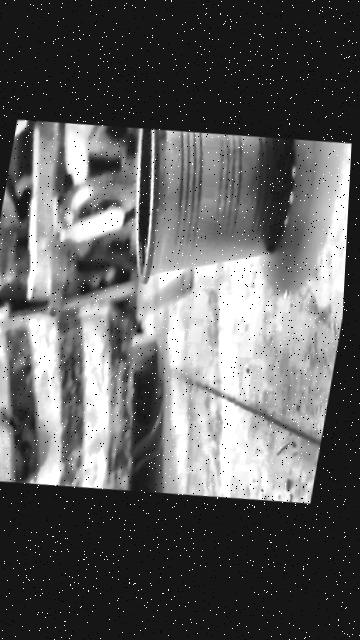pot: (112, 118, 303, 301)
